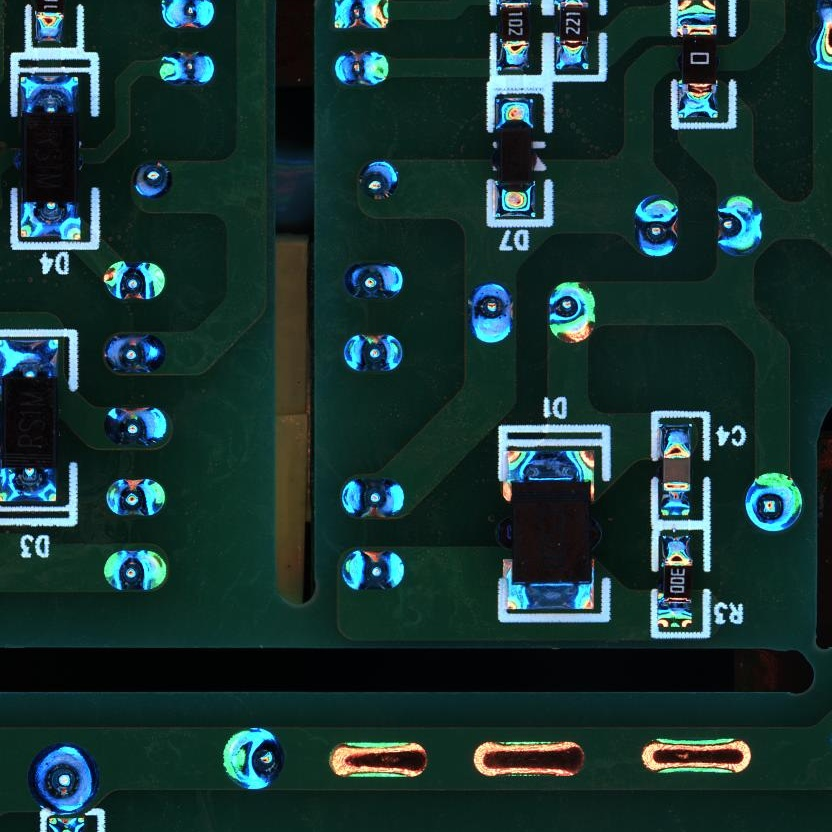spot: (26, 742, 100, 815), (219, 724, 286, 793), (744, 470, 804, 535), (547, 279, 598, 346), (714, 193, 765, 258), (633, 192, 681, 260), (467, 282, 516, 345), (103, 548, 168, 594), (340, 548, 405, 593), (102, 331, 167, 375), (105, 476, 167, 521), (105, 403, 168, 447), (103, 260, 167, 303), (342, 479, 405, 519), (342, 333, 403, 374), (344, 261, 403, 301), (331, 48, 389, 88), (156, 48, 216, 85), (356, 159, 400, 202), (330, 1, 389, 33), (130, 158, 174, 200), (159, 1, 215, 28)
